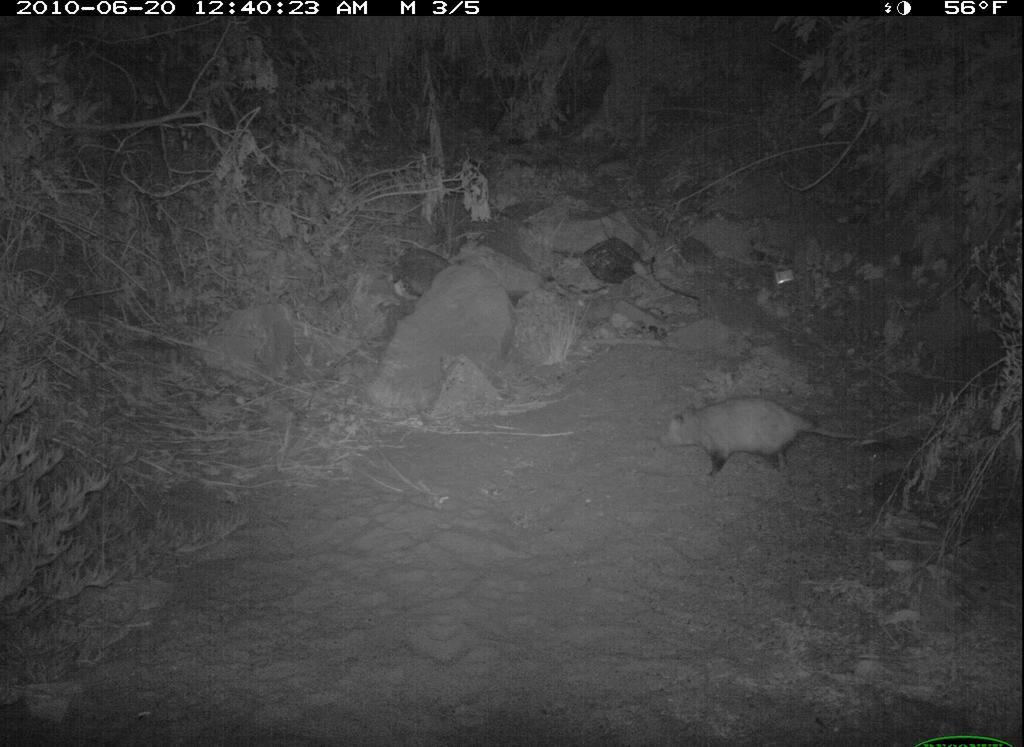opossum: (648, 393, 902, 487)
